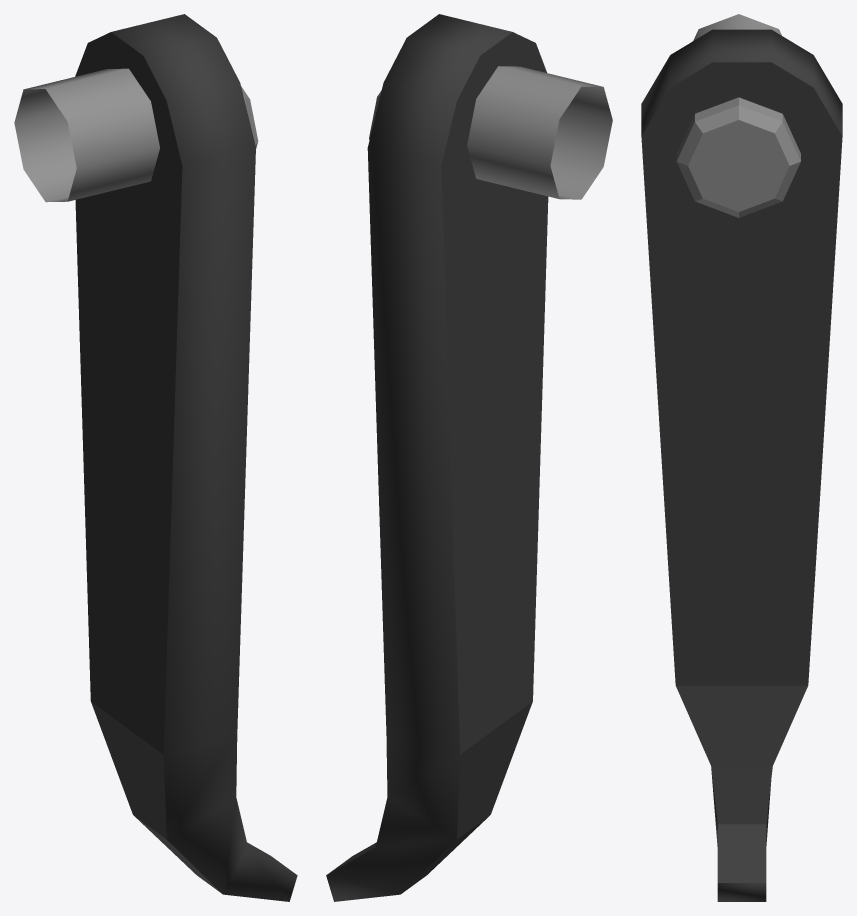
Rendered from Exercise_Bike_Pedal_A.fbx.
The picture shows the model from 3 angles, left to right: view 1: azimuth 30°, elevation 25°; view 2: azimuth 150°, elevation 25°; view 3: azimuth 270°, elevation 25°; orthographic projection. The views are drawn at different scales.
Visible parts, largest first — view 1: Exercise_Bike_Pedal_A; view 2: Exercise_Bike_Pedal_A; view 3: Exercise_Bike_Pedal_A.
Boxes of the visible parts, x1,y1,x2,y2 form: Exercise_Bike_Pedal_A: (14, 14, 297, 901); Exercise_Bike_Pedal_A: (326, 14, 612, 901); Exercise_Bike_Pedal_A: (641, 14, 842, 901).
Bounding box in the file's own units: 8.14 × 28.61 × 6.47.
